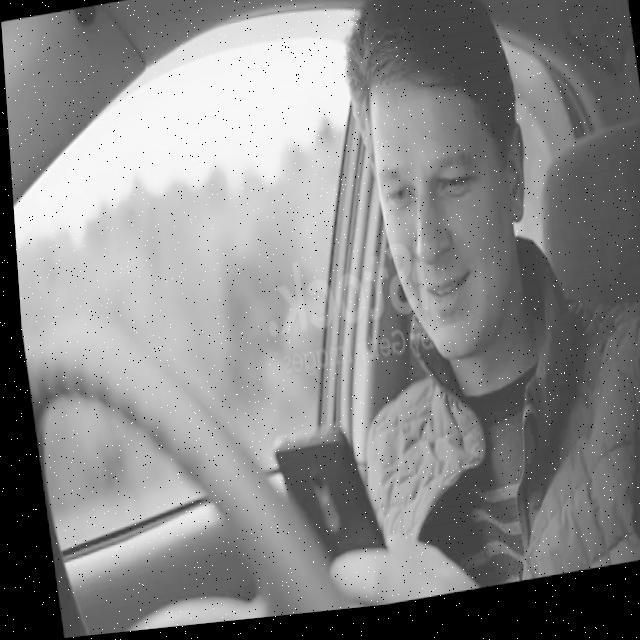PhoneCall: (262, 420, 384, 612)
